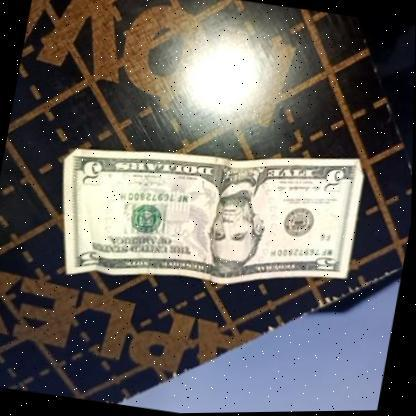five-front: (44, 115, 370, 319)
